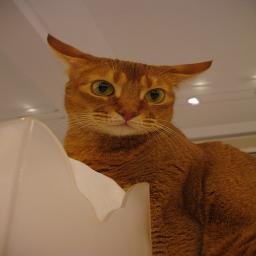catnose: (114, 106, 140, 122)
